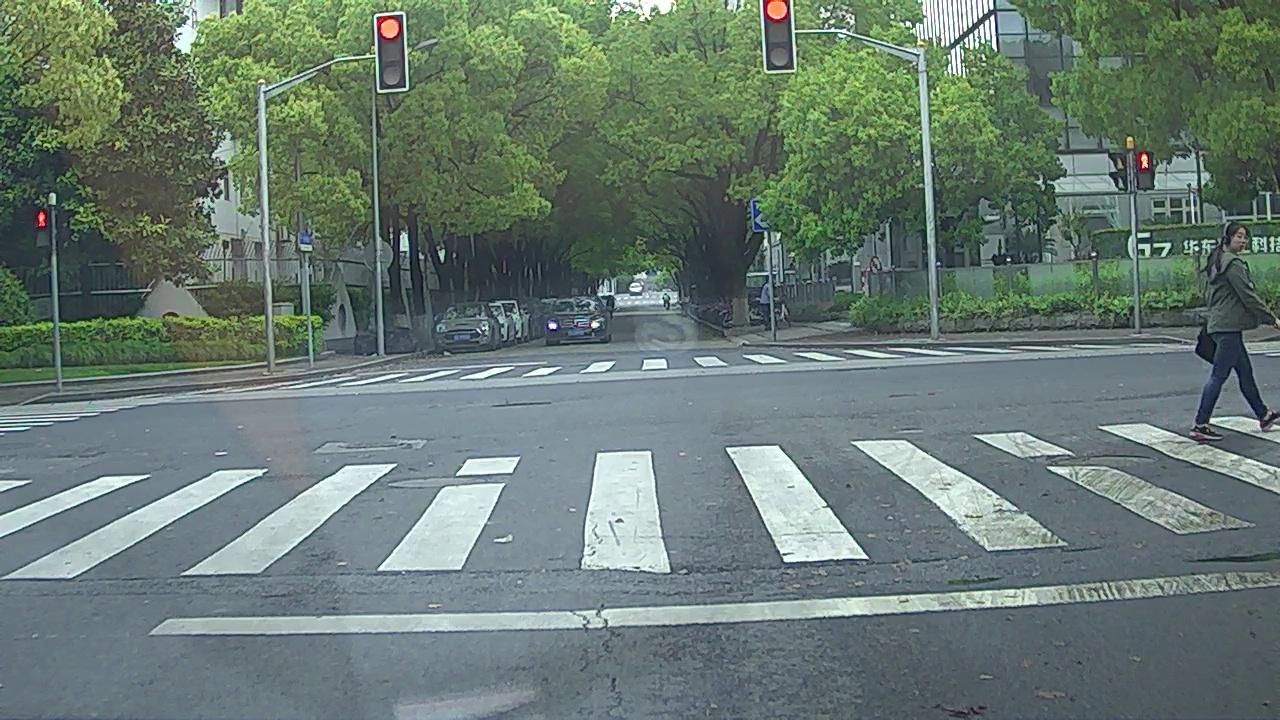traffic_light: (374, 10, 409, 88), (763, 1, 795, 69)
